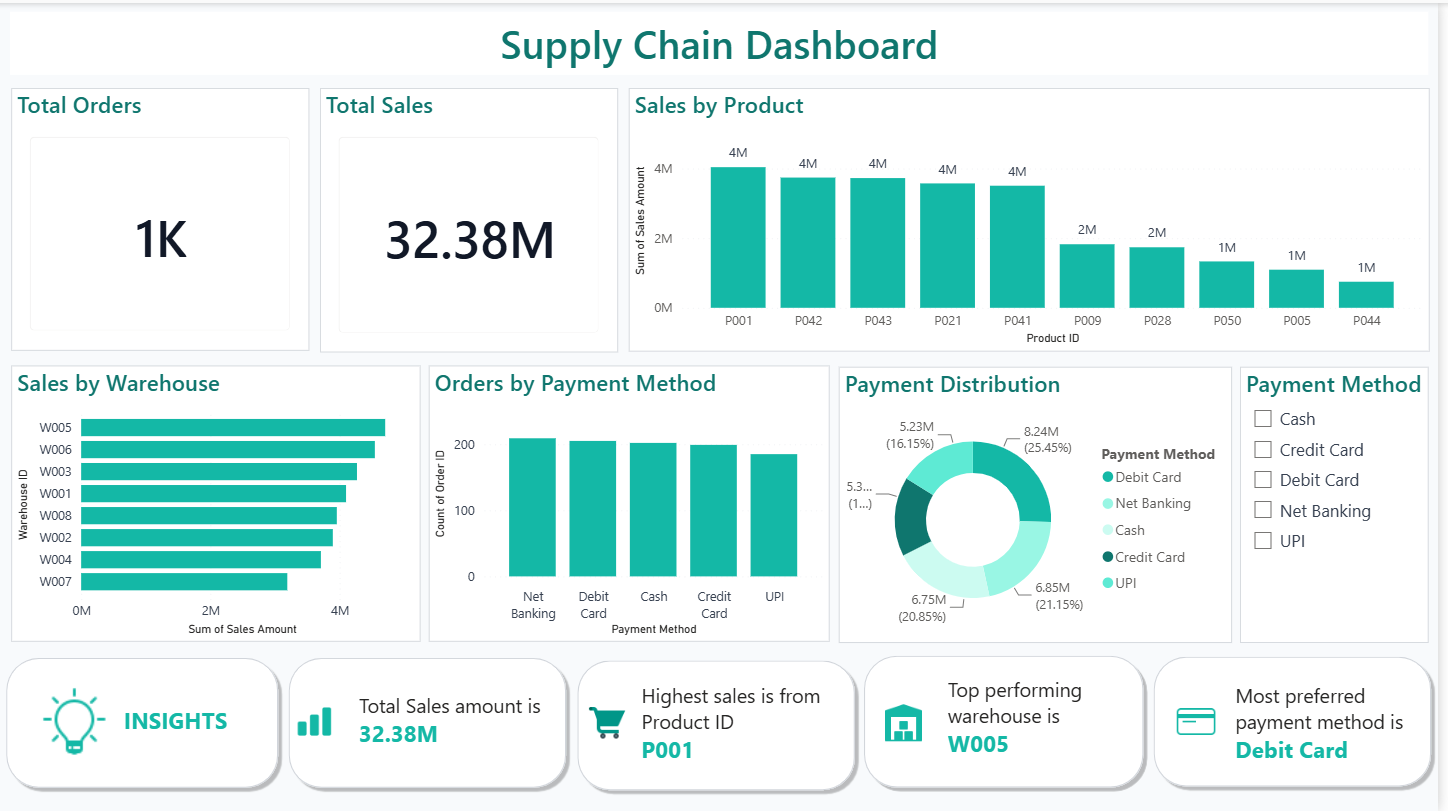

The page's visual inventory and layout, read from the dashboard file:
{"tool":"powerbi","page":{"name":"Page 1","canvas":[1366,768],"ordinal":0},"visuals":[{"type":"textbox","box":[10,8.7,1347.6,59.8],"z":0},{"type":"clusteredColumnChart","title":"Orders by Payment Method","fields":{"Category":["Orders.Payment Method"],"Y":["CountNonNull(Orders.Order ID)"]},"box":[407.2,344.9,380.9,262.5],"z":1000},{"type":"cardVisual","title":"Total Sales","fields":{"Data":["Sum(Orders.Sales Amount)"]},"box":[303.7,81.1,283.1,250.9],"z":2000},{"type":"clusteredColumnChart","title":"Sales by Product","fields":{"Category":["Orders.Product ID"],"Y":["Sum(Orders.Sales Amount)"]},"box":[597.1,81.1,760.5,250],"z":3000},{"type":"barChart","title":"Sales by Warehouse","fields":{"Category":["Orders.Warehouse ID"],"Y":["Sum(Orders.Sales Amount)"]},"box":[10.3,344.9,388.6,262.5],"z":4000},{"type":"donutChart","title":"Payment  Distribution","fields":{"Y":["Sum(Orders.Sales Amount)"],"Category":["Orders.Payment Method"]},"box":[796.3,345,373.6,262.8],"z":5000},{"type":"cardVisual","title":"Total Orders","fields":{"Data":["CountNonNull(Orders.Order ID)"]},"box":[10.3,81.1,283.1,249.7],"z":6000},{"type":"slicer","title":"Payment Method","fields":{"Values":["Orders.Payment Method"]},"box":[1178.2,345,179.3,262],"z":7000},{"type":"shape","box":[0,616.4,270.2,135.1],"z":8000},{"type":"shape","box":[268.6,616.4,275.4,135.1],"z":9000},{"type":"shape","box":[542.4,619,275.4,135.1],"z":10000},{"type":"shape","box":[1090,615.1,275.4,135.1],"z":11000},{"type":"image","box":[557.2,664,40,40],"z":12000},{"type":"shape","box":[816.2,615.1,275.4,135.1],"z":13000},{"type":"image","box":[10.3,649.9,119.7,66.9],"z":14000},{"type":"image","box":[1115.7,662.7,40,40],"z":15000},{"type":"image","box":[837.8,664,40,40],"z":16000},{"type":"image","box":[278,662.7,40,40],"z":17000},{"type":"textbox","box":[113.2,661.5,128.7,64.3],"z":18000},{"type":"textbox","box":[335.9,649.9,185.3,74.6],"z":19000},{"type":"textbox","box":[604.8,639.6,190.5,93.9],"z":20000},{"type":"textbox","box":[895.7,634.4,163.4,97.8],"z":21000},{"type":"textbox","box":[1168.5,639.6,180.2,91.4],"z":22000}]}

Visuals, with their boxes in screenshot pixels (x1, y1, x2, y2), scaled from the page's 1366x768 canvas onto the 1448x811 screenshot:
textbox: bbox(11, 9, 1439, 72)
"Orders by Payment Method" clusteredColumnChart: bbox(432, 364, 835, 641)
"Total Sales" cardVisual: bbox(322, 86, 622, 351)
"Sales by Product" clusteredColumnChart: bbox(633, 86, 1439, 350)
"Sales by Warehouse" barChart: bbox(11, 364, 423, 641)
"Payment  Distribution" donutChart: bbox(844, 364, 1240, 642)
"Total Orders" cardVisual: bbox(11, 86, 311, 349)
"Payment Method" slicer: bbox(1249, 364, 1439, 641)
shape: bbox(0, 651, 286, 794)
shape: bbox(285, 651, 577, 794)
shape: bbox(575, 654, 867, 796)
shape: bbox(1155, 650, 1447, 792)
image: bbox(591, 701, 633, 743)
shape: bbox(865, 650, 1157, 792)
image: bbox(11, 686, 138, 757)
image: bbox(1183, 700, 1225, 742)
image: bbox(888, 701, 930, 743)
image: bbox(295, 700, 337, 742)
textbox: bbox(120, 699, 256, 766)
textbox: bbox(356, 686, 552, 765)
textbox: bbox(641, 675, 843, 775)
textbox: bbox(949, 670, 1123, 773)
textbox: bbox(1239, 675, 1430, 772)
